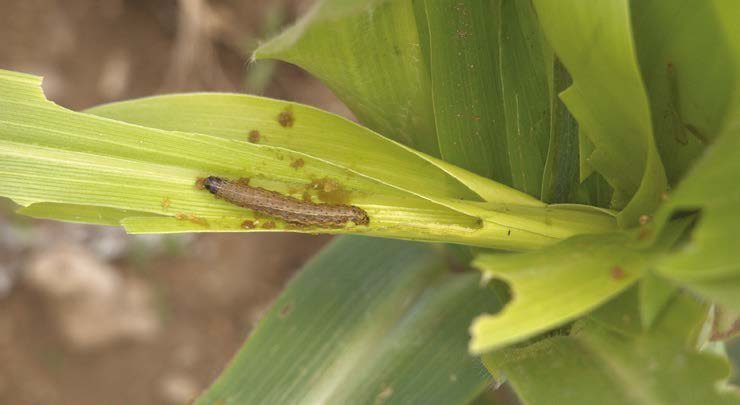Armyworm: (172, 169, 387, 245)
